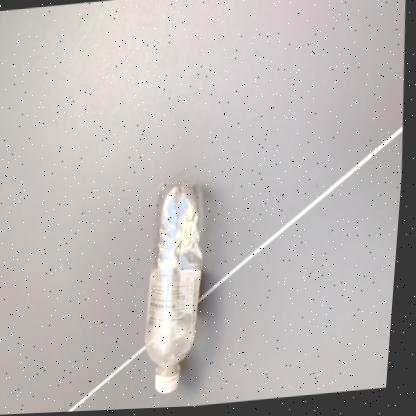Plastic: (149, 185, 205, 396)
